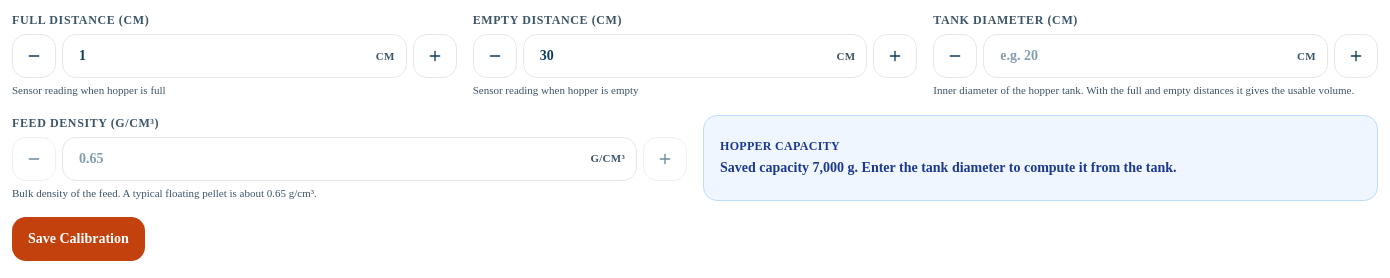
it: hopper calibration form › steps the hopper distance in whole centimetres (issue #307)
Click the button named "Increase Full Distance (cm)" at (435, 56), box [413, 34, 457, 78]
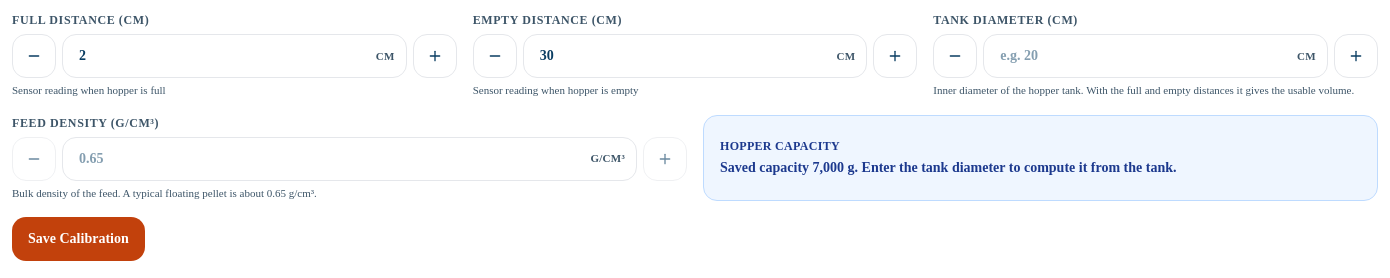
Check: the number field labelled "Full Distance (cm)" holds "2", box [62, 34, 407, 78]
Click the button named "Increase Full Distance (cm)" at (435, 56), box [413, 34, 457, 78]
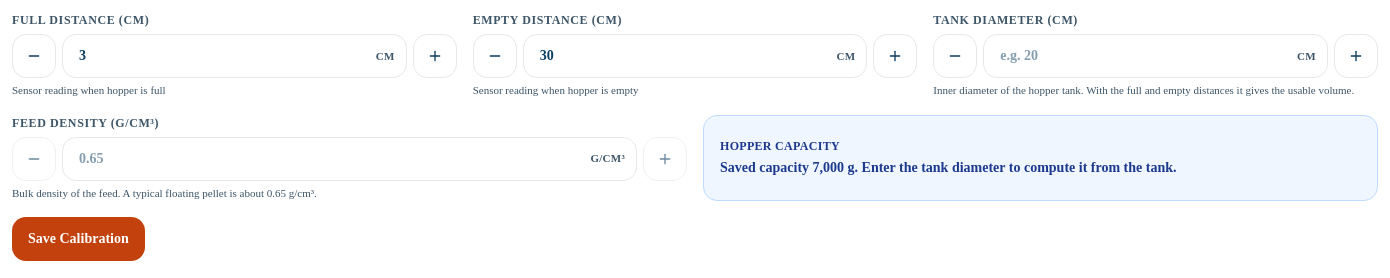
Check: the number field labelled "Full Distance (cm)" holds "3", box [62, 34, 407, 78]
Click the button named "Increase Full Distance (cm)" at (435, 56), box [413, 34, 457, 78]
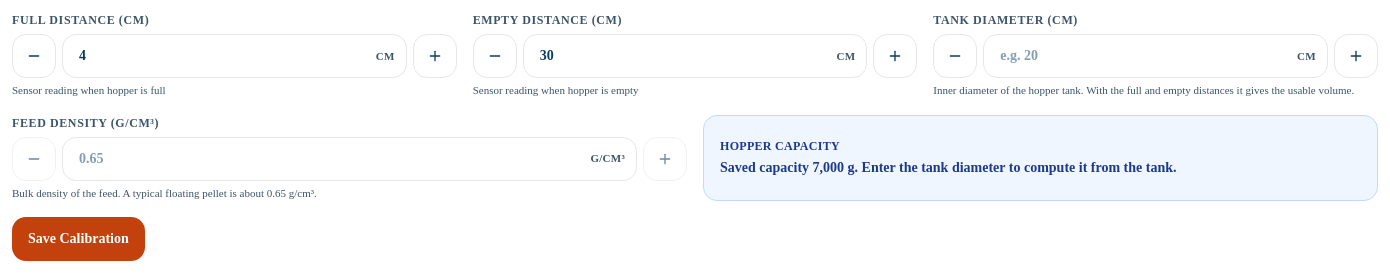
Check: the number field labelled "Full Distance (cm)" holds "4", box [62, 34, 407, 78]
